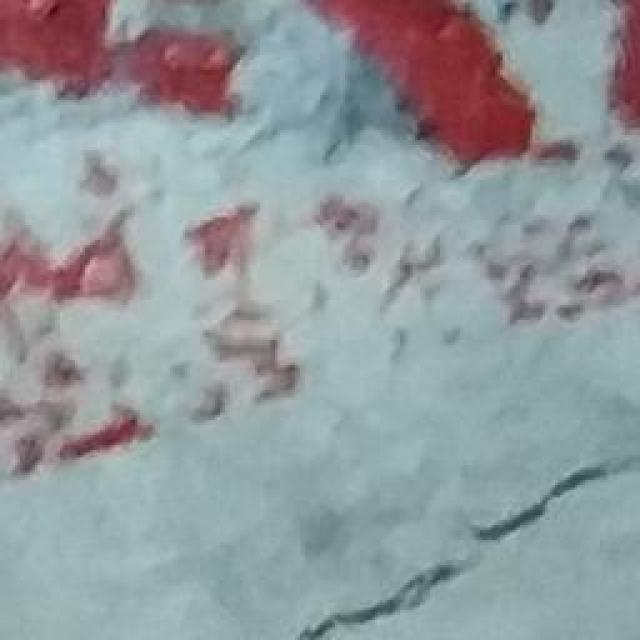Diagonal: (228, 457, 640, 640)
